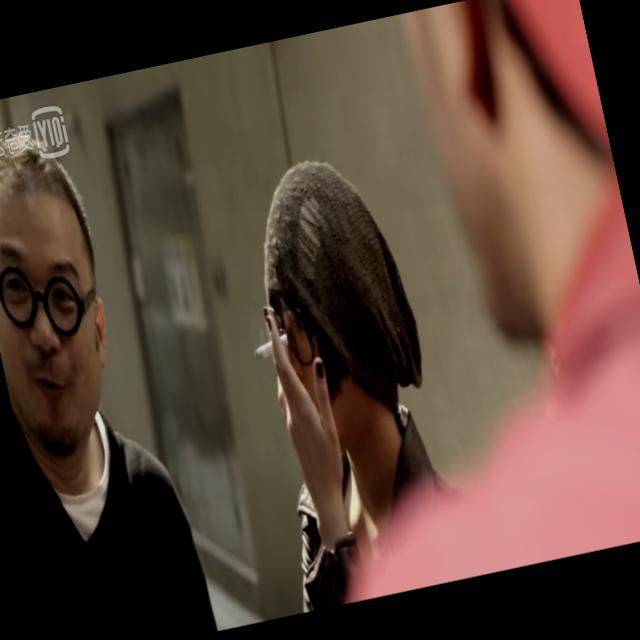smoke: (249, 329, 292, 367)
